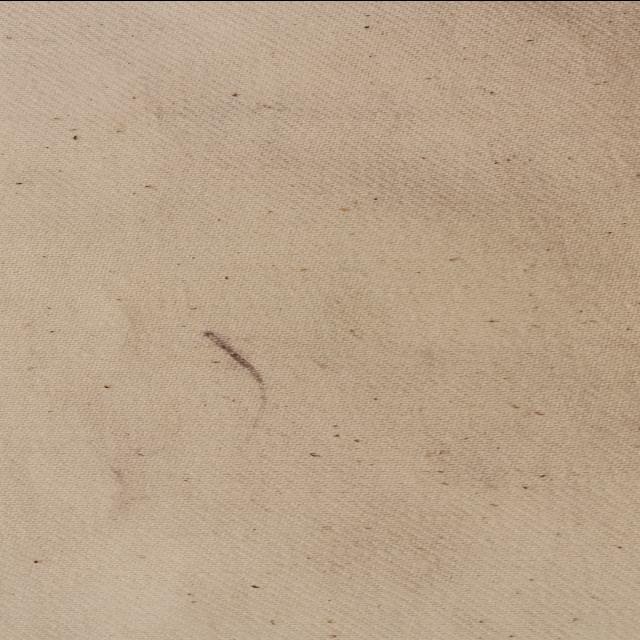taaaches: (203, 316, 271, 438)
